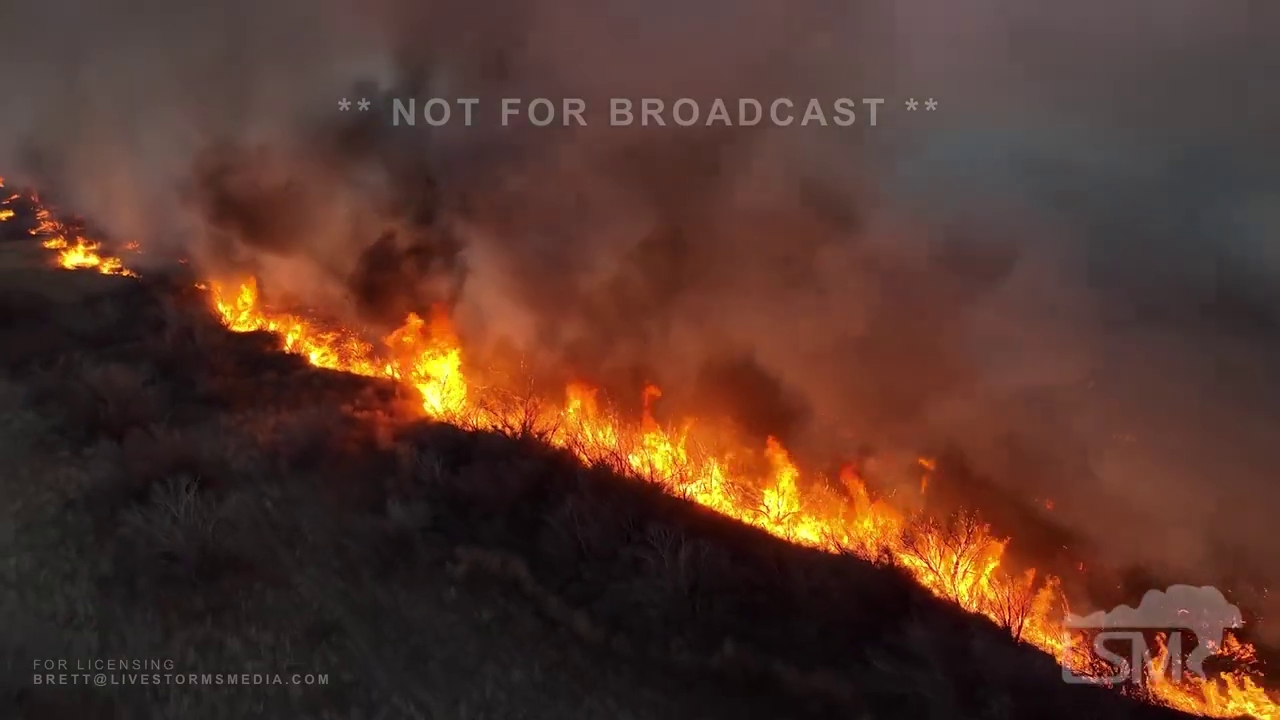forest_fire: (200, 278, 1106, 677), (1142, 632, 1279, 718), (30, 196, 135, 275), (919, 458, 932, 491), (0, 208, 10, 218), (9, 195, 15, 200), (127, 247, 135, 248), (1100, 679, 1101, 680)
